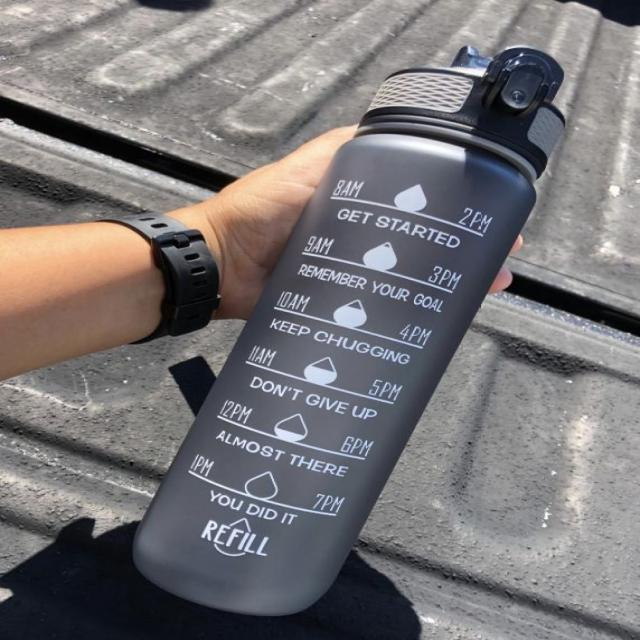bottle: (136, 30, 640, 640)
